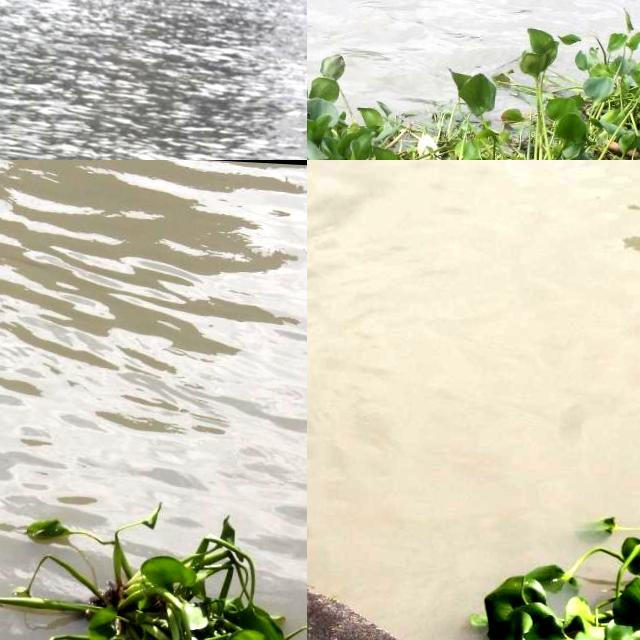water-hyacinth: (308, 1, 640, 161), (1, 491, 308, 640), (482, 474, 640, 640), (308, 161, 353, 174)
